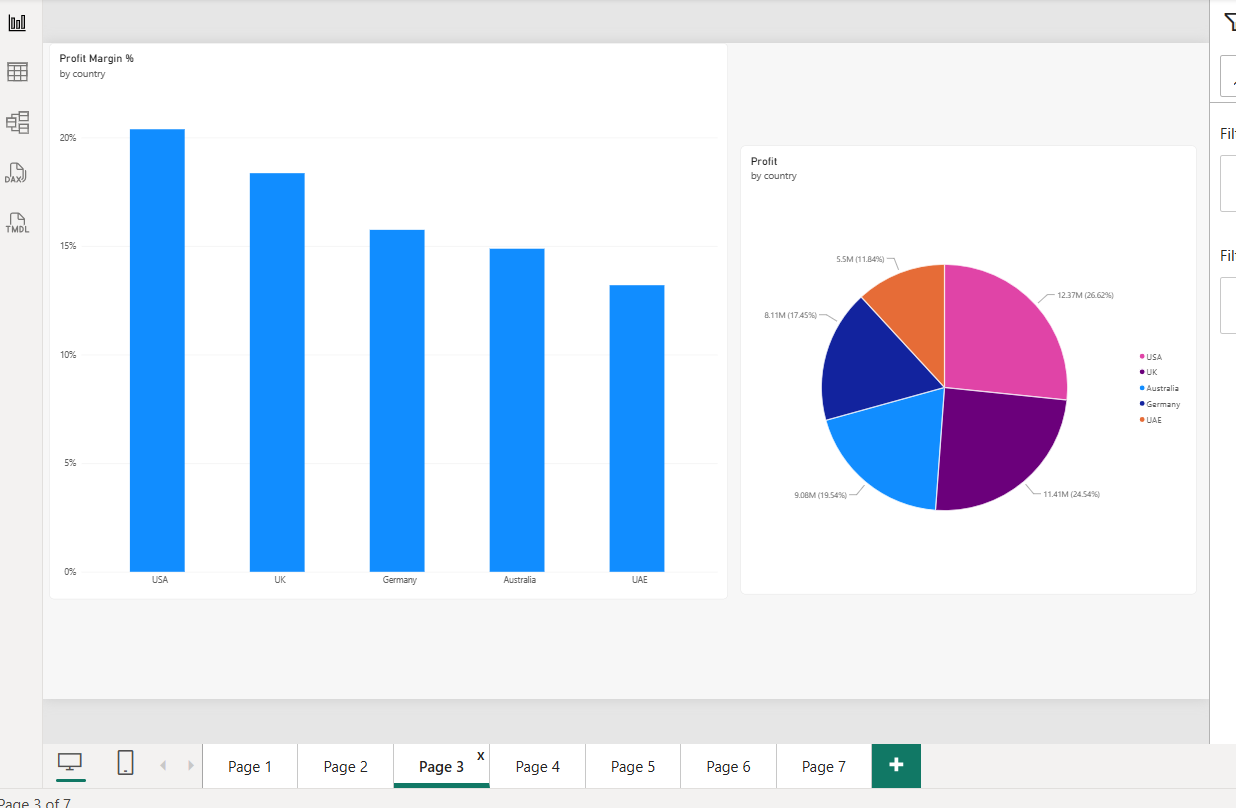

The dashboard page shown, as its layout file describes it:
{"tool":"powerbi","page":{"name":"Page 3","canvas":[1920,1080],"ordinal":2},"visuals":[{"type":"columnChart","fields":{"Category":["Dim_Country.country"],"Y":["Fact_Shipments.Profit Margin %"]},"box":[10.3,0,1117.7,916],"z":0},{"type":"pieChart","fields":{"Category":["Dim_Country.country"],"Y":["Fact_Shipments.Profit"]},"box":[1148.5,168.8,751.3,738.9],"z":1000}]}

Visuals, with their boxes on the page's 1920x1080 design canvas (x1, y1, x2, y2). These are canvas units, not pixel positions in the 1236x808 screenshot, which may show the page scaled, cropped or inside an application window:
columnChart - Dim_Country.country x Fact_Shipments.Profit Margin %: (left=10, top=0, right=1128, bottom=916)
pieChart - Dim_Country.country x Fact_Shipments.Profit: (left=1148, top=169, right=1900, bottom=908)
